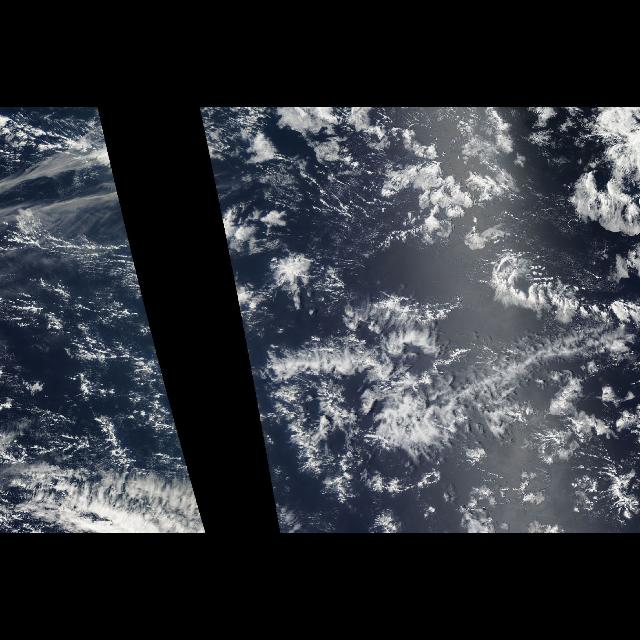Fish: (269, 333, 617, 445)
